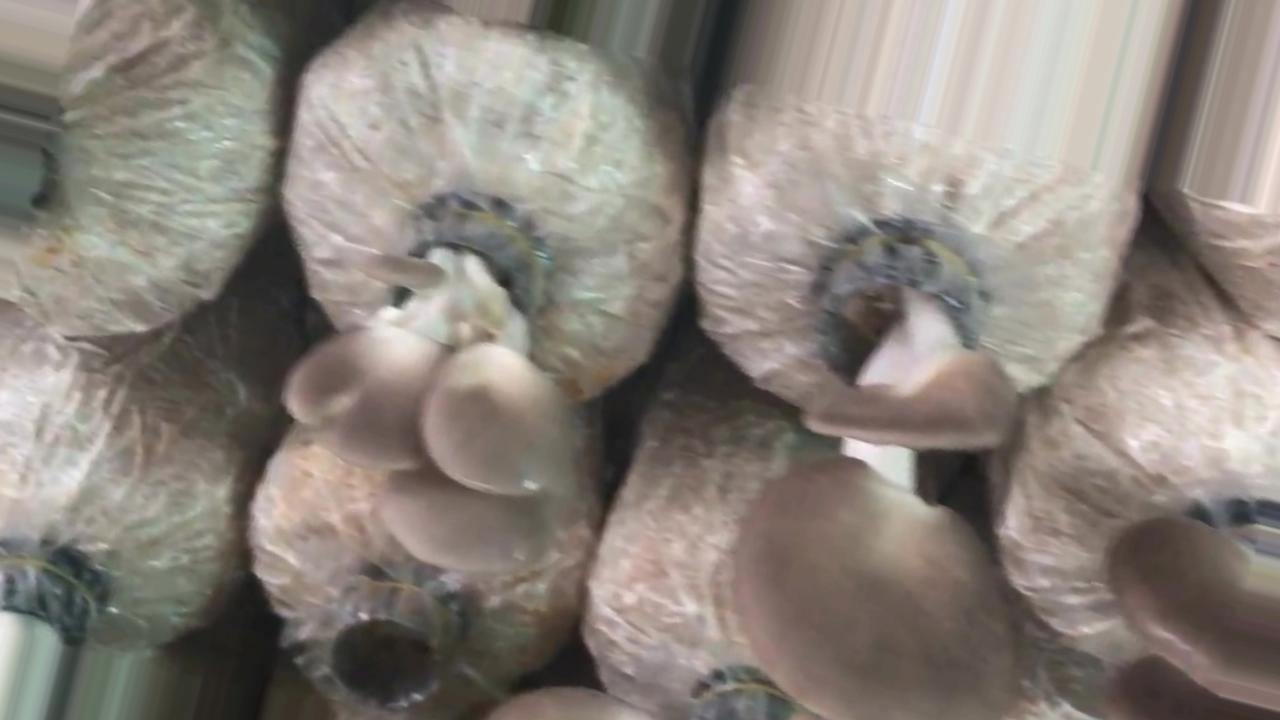nam: (728, 227, 1020, 714), (280, 192, 571, 578), (1106, 505, 1280, 715)
